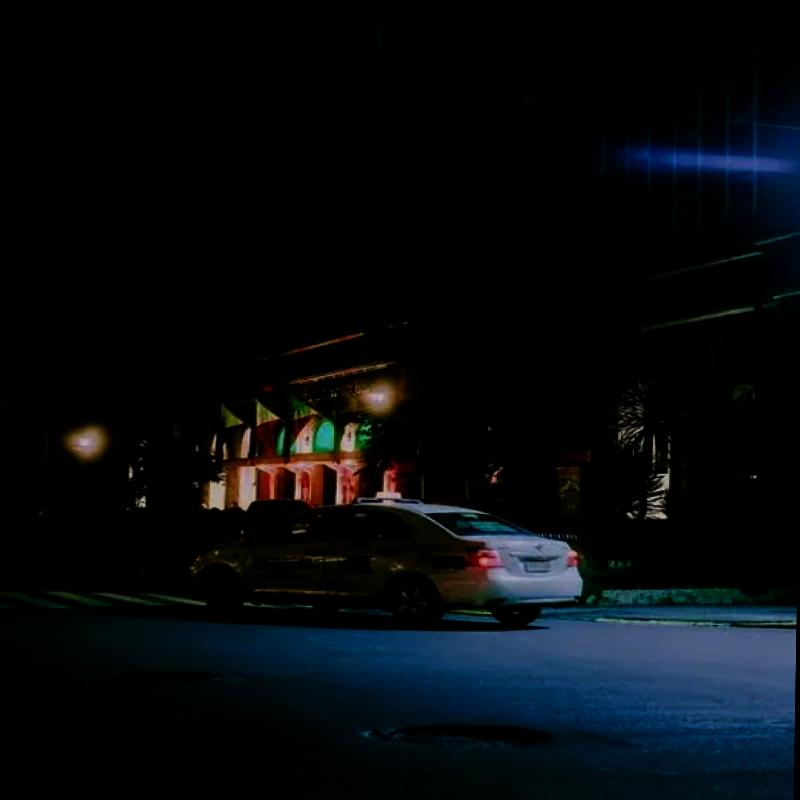license plate on a car: (514, 555, 560, 574)
